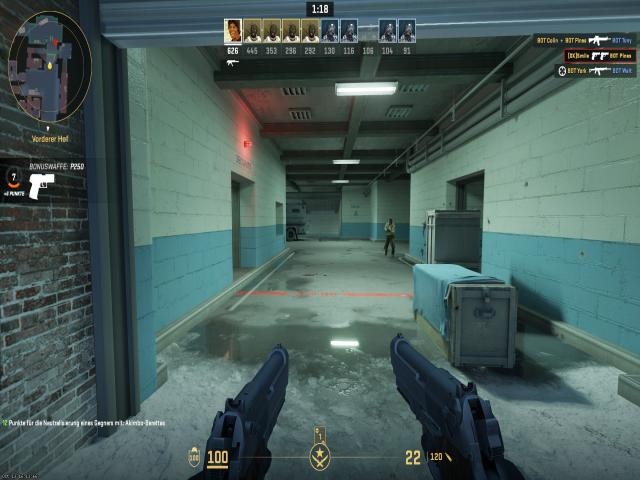T: (384, 217, 396, 254)
T-Head: (388, 217, 393, 224)
